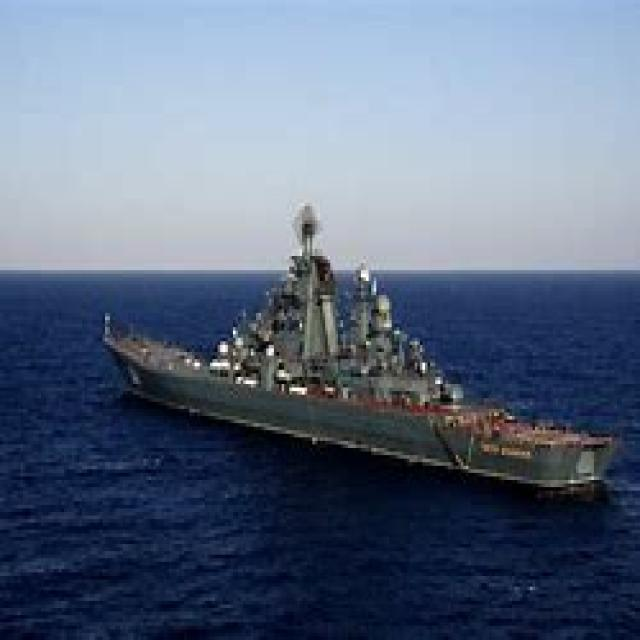navalvessels: (94, 195, 620, 505)
